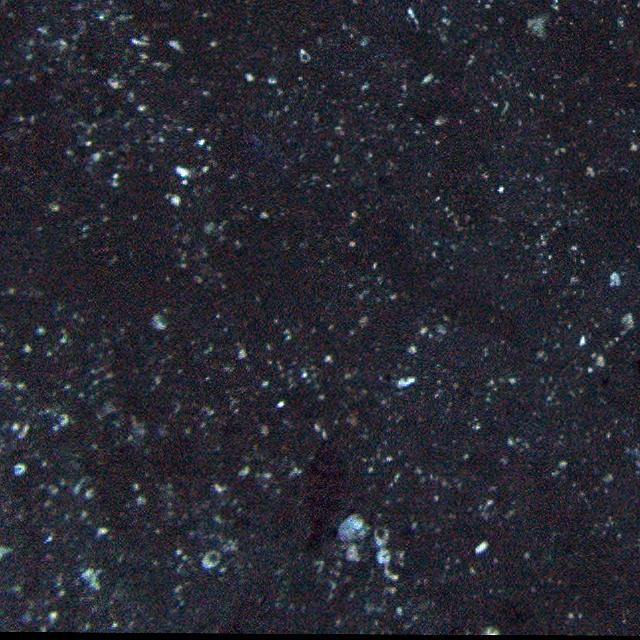flatfish: (291, 429, 360, 555)
